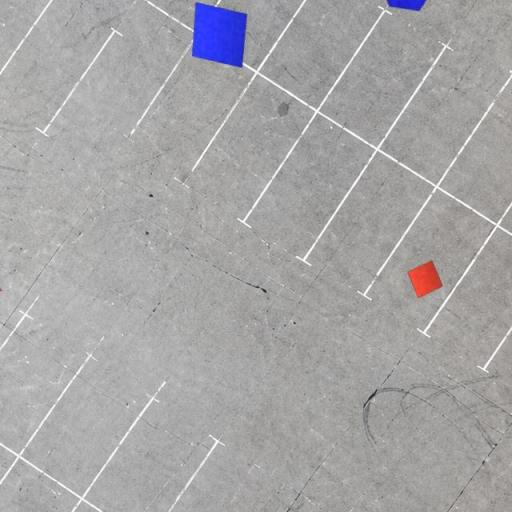BLUE_SQUARE: (191, 2, 248, 68)
RED_SQUARE: (407, 260, 443, 298)
